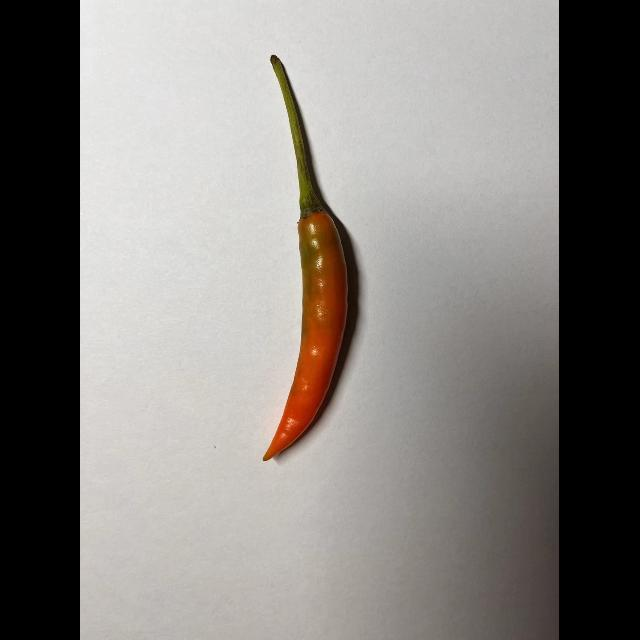chili_pepper: (250, 52, 366, 466)
